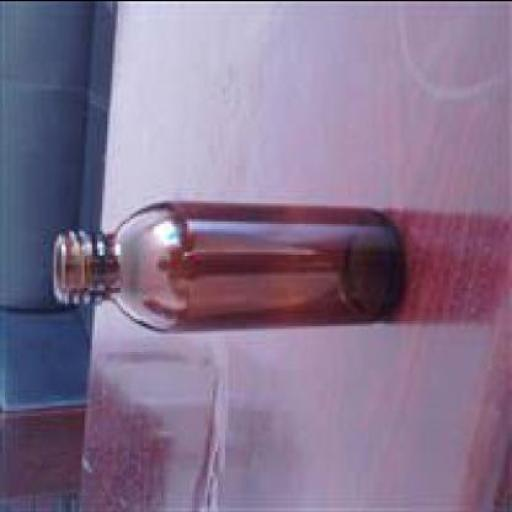glass: (48, 207, 402, 333)
